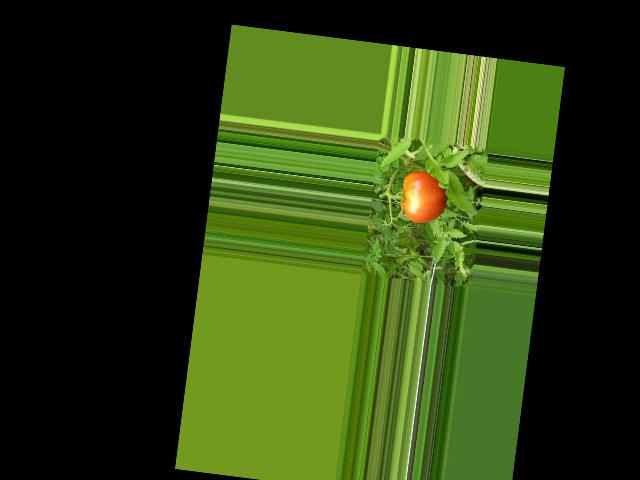tomato: (397, 169, 449, 225)
